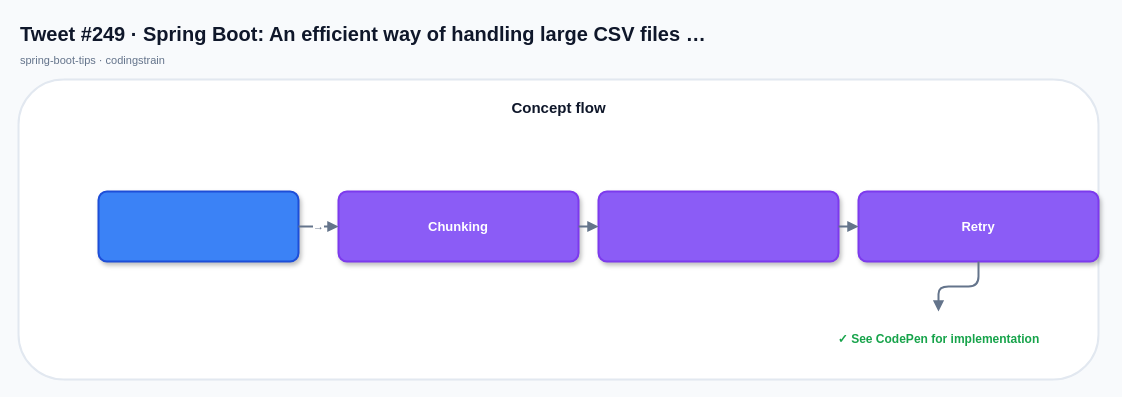
Some shapes in this 1122 by 397 pixel diagram are drawn without their labels. Each missing label, with the centre of its shape:
"Parallelism" goes at point 719,227.
"Problem / context" goes at point 199,227.
